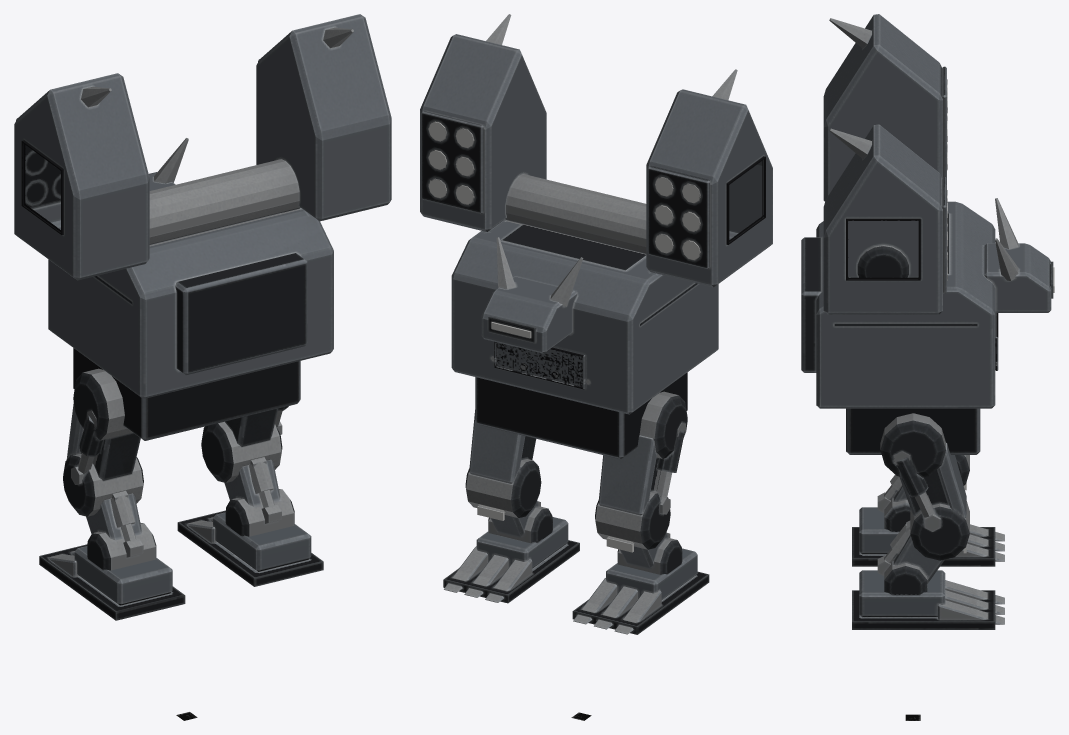
Rendered from chs_gargoyle.fbx.
3 views of the same model, side by side, from view 1: azimuth 30°, elevation 25°; view 2: azimuth 150°, elevation 25°; view 3: azimuth 270°, elevation 25° (orthographic). The views are drawn at different scales.
Parts seen in each view (by area): view 1: launcher_bar, torso_bar, thighL_bar, base_bar, footR_bar, footL_bar, thighR_bar, shinR_bar, shinL_bar; view 2: launcher_bar, torso_bar, thighL_bar, base_bar, footR_bar, footL_bar, thighR_bar, launcher_glow_weapon_bar, shinL_bar, shinR_bar; view 3: launcher_bar, torso_bar, thighR_bar, footR_bar, base_bar, footL_bar, shinR_bar, shinL_bar.
Boxes of the visible parts, x1,y1,x2,y2 form: launcher_bar: [14, 14, 391, 280]; torso_bar: [48, 138, 333, 398]; thighL_bar: [63, 368, 143, 516]; base_bar: [73, 348, 300, 440]; footR_bar: [177, 510, 323, 586]; footL_bar: [39, 544, 185, 620]; thighR_bar: [201, 406, 288, 482]; shinR_bar: [224, 457, 294, 536]; shinL_bar: [86, 490, 156, 570]; launcher_bar: [420, 14, 772, 287]; torso_bar: [451, 219, 718, 414]; thighL_bar: [595, 391, 687, 549]; base_bar: [475, 372, 687, 459]; footR_bar: [443, 517, 579, 603]; footL_bar: [572, 548, 709, 634]; thighR_bar: [465, 410, 541, 518]; launcher_glow_weapon_bar: [428, 122, 700, 259]; shinL_bar: [617, 532, 682, 574]; shinR_bar: [488, 500, 552, 543]; launcher_bar: [823, 14, 946, 314]; torso_bar: [801, 198, 1053, 408]; thighR_bar: [880, 413, 969, 560]; footR_bar: [852, 570, 1004, 629]; base_bar: [846, 408, 980, 454]; footL_bar: [852, 507, 1004, 566]; shinR_bar: [877, 520, 944, 594]; shinL_bar: [877, 474, 910, 531].
Size of the model in its own units: 466 by 952 by 340.
2 materials, 2 textured.
